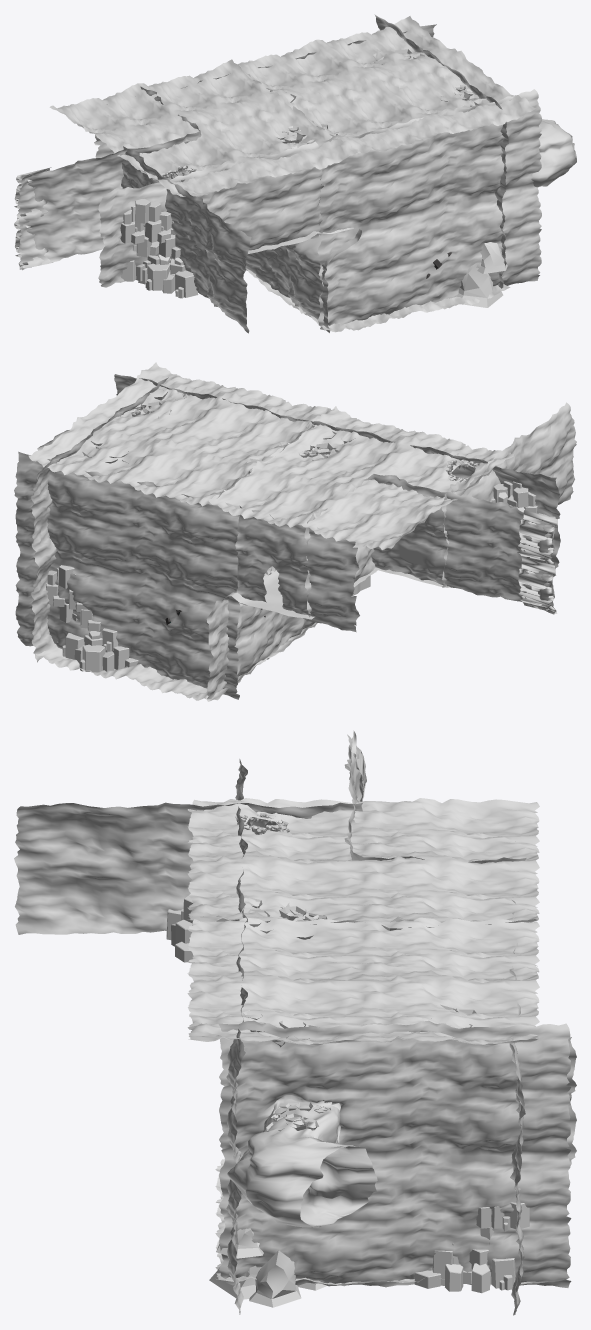
Rendered from VerticalSliceRoom.FBX.
3 views of the same model, one above another, from view 1: azimuth 30°, elevation 25°; view 2: azimuth 150°, elevation 25°; view 3: azimuth 270°, elevation 25° (orthographic). The views are drawn at different scales.
Visible parts, largest first — view 1: MegaCaveWall, Object001, Short Wall 008, CaveLargeWall, CaveLargeWall003, CaveLargeWall002, CaveLargeWall004, Short Wall 005, Short Wall 007, Rubble 059, Rubble 104, Rubble 107 (+5 smaller); view 2: MegaCaveWall2, Object001, Short Wall 008, CaveLargeWall003, CaveLargeWall005, CaveLargeWall002, CaveLargeWall004, Short Wall 005, Short Wall 007, CaveLargeWall, Floor006, Rubble 048 (+3 smaller); view 3: Short Wall 005, Short Wall 008, Object001, CaveLargeWall002, Rubble 059, MegaCaveWall, MegaCaveWall2, Rubble 054, Rubble 057, CaveLargeWall003, Rubble 046, Short Wall 007.
Boxes of the visible parts, box(x1,y1,x2,y2) form: MegaCaveWall: box(316, 89, 541, 330); Object001: box(237, 16, 536, 153); Short Wall 008: box(49, 59, 357, 196); CaveLargeWall: box(98, 141, 323, 287); CaveLargeWall003: box(14, 131, 200, 270); CaveLargeWall002: box(121, 146, 251, 333); CaveLargeWall004: box(245, 229, 361, 332); Short Wall 005: box(374, 14, 576, 288); Short Wall 007: box(246, 268, 510, 332); Rubble 059: box(457, 263, 503, 307); Rubble 104: box(162, 258, 198, 298); Rubble 107: box(138, 255, 174, 290); MegaCaveWall2: box(14, 451, 240, 699); Object001: box(28, 362, 334, 506); Short Wall 008: box(208, 406, 514, 549); CaveLargeWall003: box(371, 474, 557, 614); CaveLargeWall005: box(234, 506, 359, 632); CaveLargeWall002: box(442, 402, 576, 587); CaveLargeWall004: box(206, 598, 314, 699); Short Wall 005: box(31, 377, 168, 662); Short Wall 007: box(36, 622, 317, 701); CaveLargeWall: box(336, 427, 560, 568); Floor006: box(224, 567, 449, 619); Rubble 048: box(74, 635, 114, 672); Short Wall 005: box(218, 1020, 571, 1287); Short Wall 008: box(187, 798, 539, 924); Object001: box(187, 917, 539, 1046); CaveLargeWall002: box(14, 802, 362, 934); Rubble 059: box(209, 1250, 301, 1307); MegaCaveWall: box(226, 907, 247, 1314); MegaCaveWall2: box(509, 914, 525, 1315); Rubble 054: box(463, 1249, 515, 1293); Rubble 057: box(414, 1250, 463, 1291); CaveLargeWall003: box(344, 730, 366, 922); Rubble 046: box(476, 1202, 529, 1231); Short Wall 007: box(215, 1159, 567, 1286).
Size of the model in its own units: 126 by 83.24 by 45.39.
